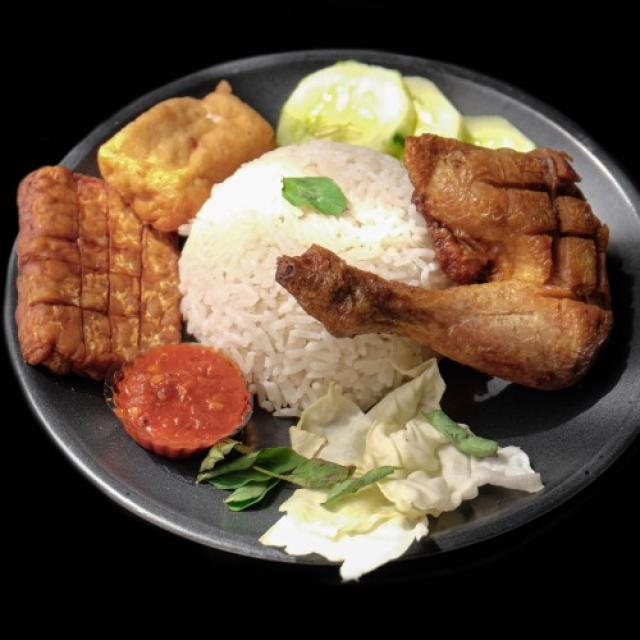Frango: (278, 138, 613, 393), (180, 144, 432, 418), (21, 164, 179, 372), (101, 82, 280, 230)
